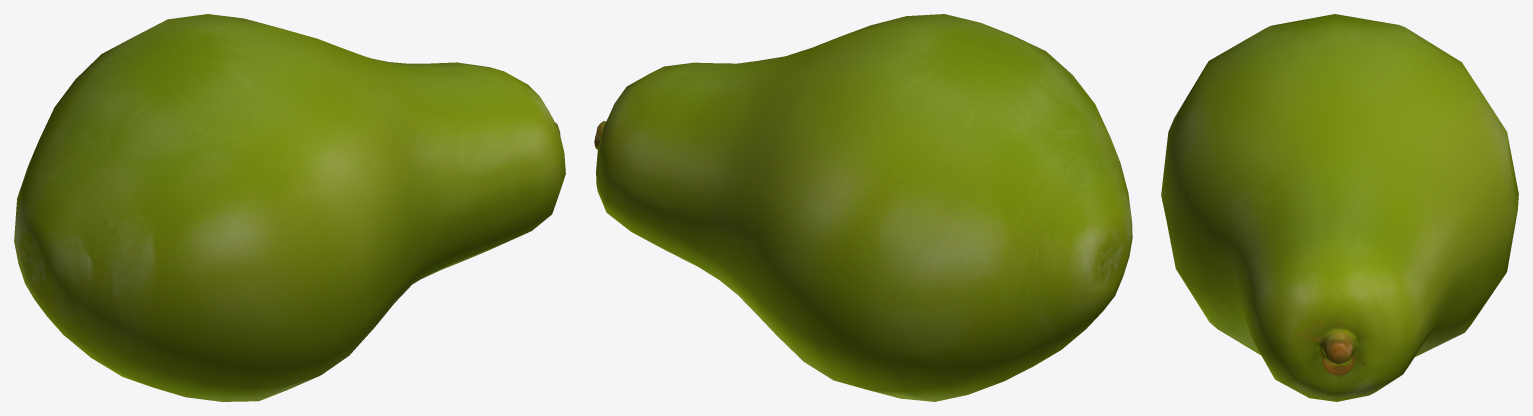
Rendered from 016_pear.dae.
The picture shows the model from 3 angles, left to right: view 1: azimuth 30°, elevation 25°; view 2: azimuth 150°, elevation 25°; view 3: azimuth 270°, elevation 25°; orthographic projection. The views are drawn at different scales.
Visible parts, largest first — view 1: 016_pear; view 2: 016_pear; view 3: 016_pear.
Part boxes in pixels (x1,y1,x2,y2): 016_pear: (14,14,565,401); 016_pear: (594,14,1132,401); 016_pear: (1161,14,1518,401).
Bounding box in the file's own units: 0.1041 × 0.0665 × 0.0667.
Materials: 1 (1 with a texture image).
